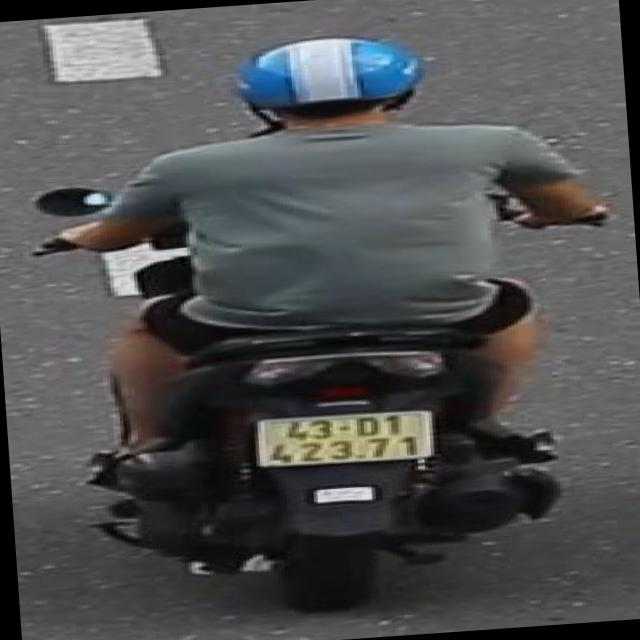LP: (246, 401, 441, 472)
helmet: (230, 26, 432, 146)
